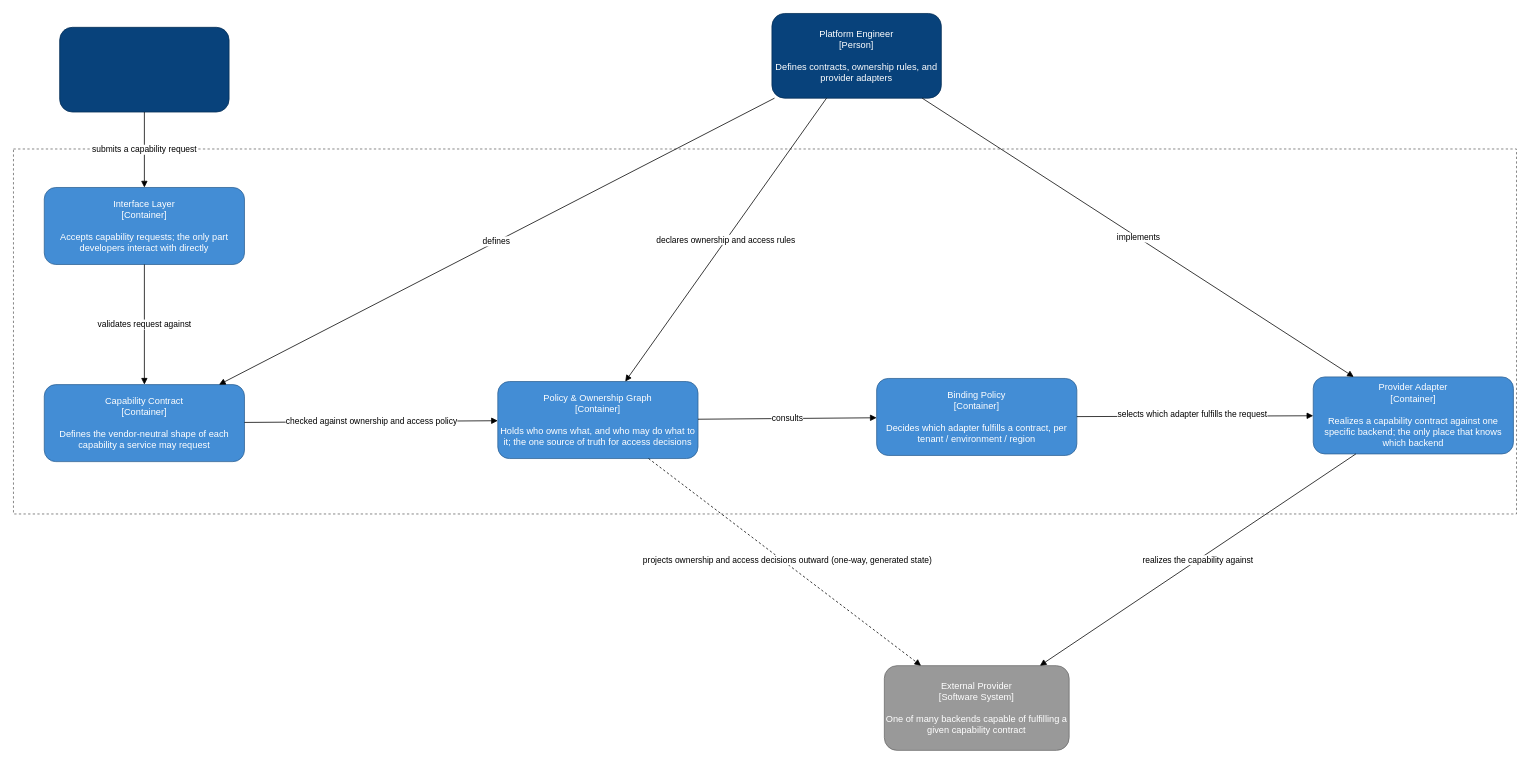
Image size: 1530x764. Some labels were removed from this diagram. Here are the shapes that lost their labels. From the top down, the box of each, then its label:
(59, 27, 229, 112): Developer [Person] Submits a capability request for their service
(13, 148, 1517, 514): Internal Developer Platform [Software System boundary]
